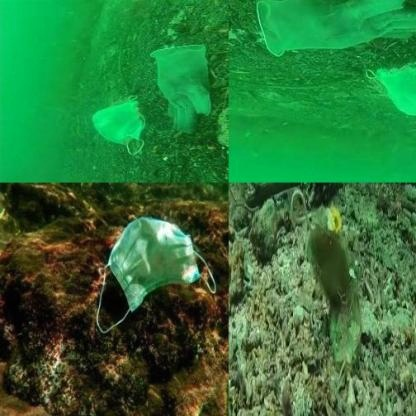Mask: (97, 216, 217, 341), (290, 188, 361, 390), (88, 93, 148, 153), (367, 62, 415, 121)
glove: (254, 0, 416, 56), (146, 42, 216, 134)
